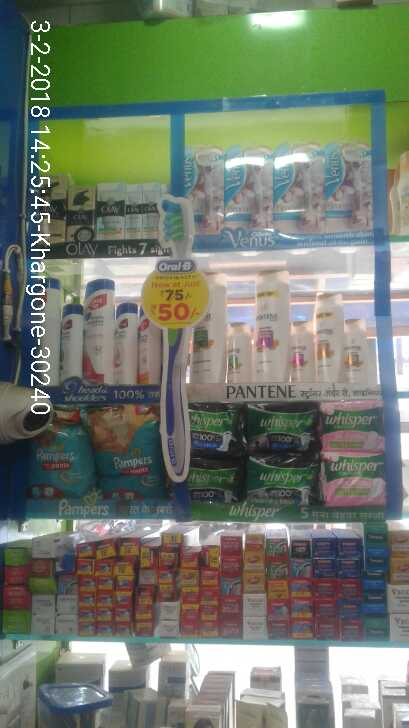venus: (323, 142, 375, 234), (273, 144, 323, 234), (223, 144, 273, 231), (188, 144, 223, 231)
